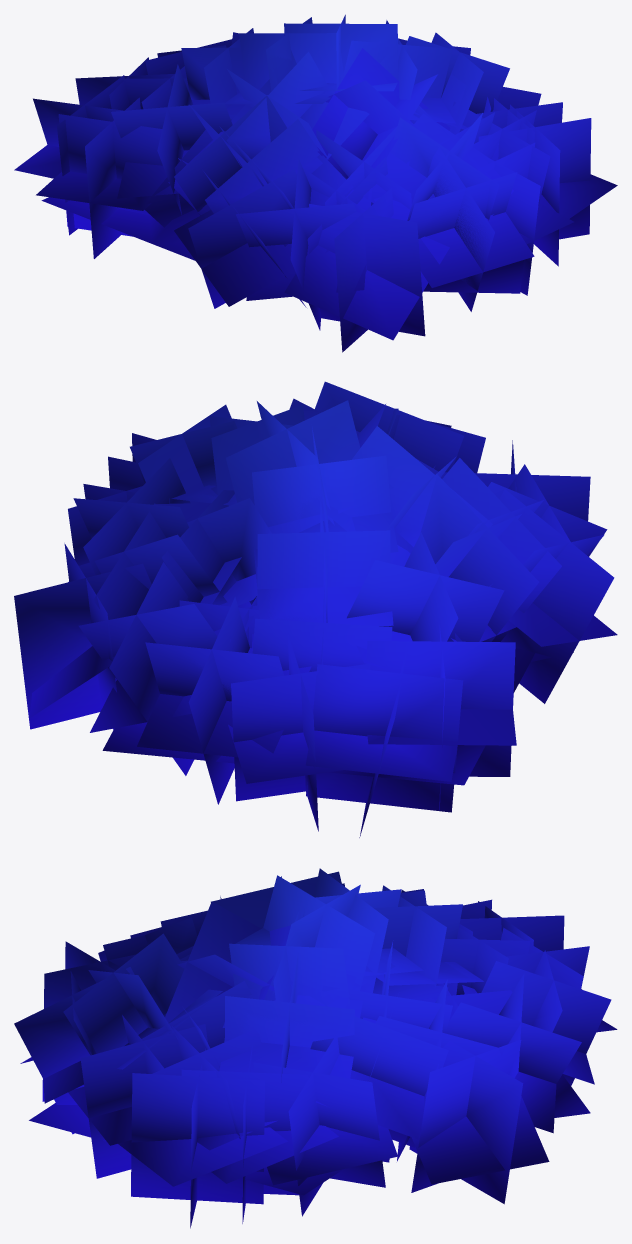
File: TSI_Bush_01B.fbx
3 renders of one model, top to bottom at view 1: azimuth 30°, elevation 25°; view 2: azimuth 150°, elevation 25°; view 3: azimuth 270°, elevation 25°, orthographic. The views are drawn at different scales.
Visible parts, largest first — view 1: TSI_Bush_01B_LOD0; view 2: TSI_Bush_01B_LOD0; view 3: TSI_Bush_01B_LOD0.
Boxes of the visible parts, <box> form: TSI_Bush_01B_LOD0: <box>14,14,617,352</box>; TSI_Bush_01B_LOD0: <box>14,381,617,837</box>; TSI_Bush_01B_LOD0: <box>14,868,617,1228</box>.
Size of the model in its own units: 343 by 177 by 366.
